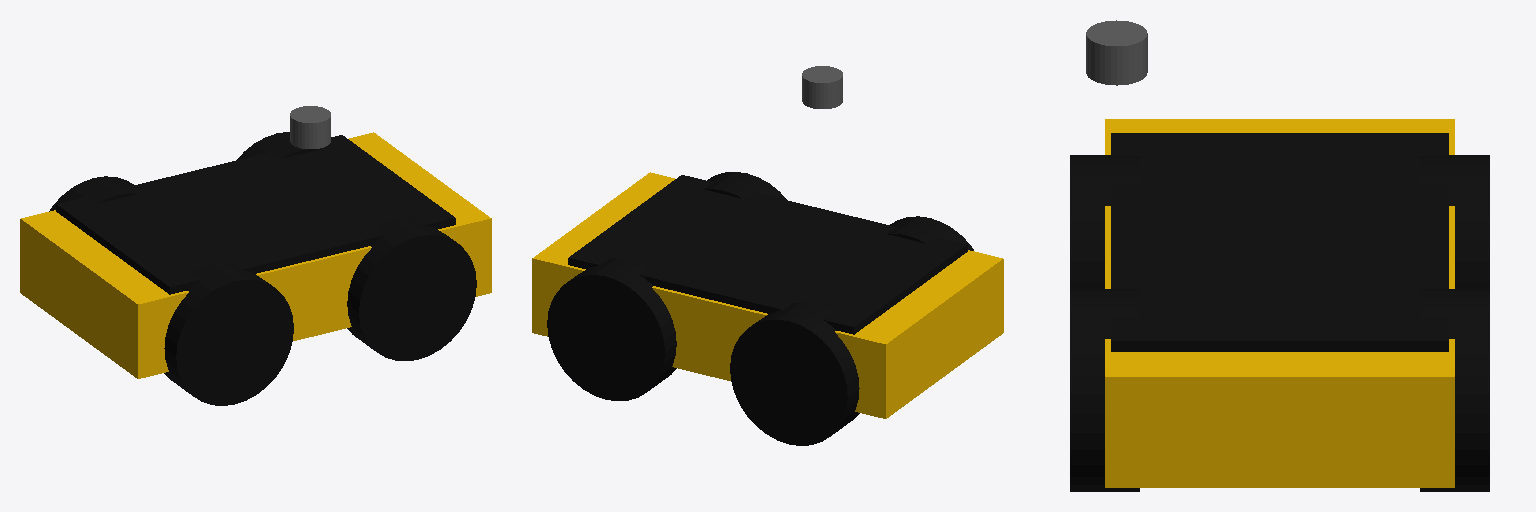
URDF robot description (husky):
<?xml version="1.0"?>
<!-- Simplified Husky A200 for display only: chassis, top plate, four wheels,
     and the LiDAR mast. Dimensions roughly match the real robot. -->
<robot name="husky">
  <material name="yellow"><color rgba="0.95 0.75 0.05 1"/></material>
  <material name="black"><color rgba="0.1 0.1 0.1 1"/></material>
  <material name="grey"><color rgba="0.4 0.4 0.4 1"/></material>

  <link name="base_link"/>

  <link name="chassis">
    <visual>
      <origin xyz="0 0 0.2"/>
      <geometry><box size="0.99 0.57 0.2"/></geometry>
      <material name="yellow"/>
    </visual>
  </link>
  <joint name="chassis_joint" type="fixed">
    <parent link="base_link"/><child link="chassis"/>
  </joint>

  <link name="top_plate">
    <visual>
      <origin xyz="0 0 0.31"/>
      <geometry><box size="0.8 0.55 0.02"/></geometry>
      <material name="black"/>
    </visual>
  </link>
  <joint name="top_plate_joint" type="fixed">
    <parent link="base_link"/><child link="top_plate"/>
  </joint>

  <link name="lidar">
    <visual>
      <origin xyz="0 0 0.05"/>
      <geometry><cylinder radius="0.05" length="0.07"/></geometry>
      <material name="grey"/>
    </visual>
  </link>
  <joint name="lidar_joint" type="fixed">
    <parent link="base_link"/><child link="lidar"/>
    <origin xyz="0.0 -0.265 0.6"/>
  </joint>

  <link name="front_left_wheel">
    <visual>
      <origin rpy="1.5708 0 0"/>
      <geometry><cylinder radius="0.165" length="0.114"/></geometry>
      <material name="black"/>
    </visual>
  </link>
  <joint name="front_left_wheel_joint" type="fixed">
    <parent link="base_link"/><child link="front_left_wheel"/>
    <origin xyz="0.256 0.285 0.165"/>
  </joint>

  <link name="front_right_wheel">
    <visual>
      <origin rpy="1.5708 0 0"/>
      <geometry><cylinder radius="0.165" length="0.114"/></geometry>
      <material name="black"/>
    </visual>
  </link>
  <joint name="front_right_wheel_joint" type="fixed">
    <parent link="base_link"/><child link="front_right_wheel"/>
    <origin xyz="0.256 -0.285 0.165"/>
  </joint>

  <link name="rear_left_wheel">
    <visual>
      <origin rpy="1.5708 0 0"/>
      <geometry><cylinder radius="0.165" length="0.114"/></geometry>
      <material name="black"/>
    </visual>
  </link>
  <joint name="rear_left_wheel_joint" type="fixed">
    <parent link="base_link"/><child link="rear_left_wheel"/>
    <origin xyz="-0.256 0.285 0.165"/>
  </joint>

  <link name="rear_right_wheel">
    <visual>
      <origin rpy="1.5708 0 0"/>
      <geometry><cylinder radius="0.165" length="0.114"/></geometry>
      <material name="black"/>
    </visual>
  </link>
  <joint name="rear_right_wheel_joint" type="fixed">
    <parent link="base_link"/><child link="rear_right_wheel"/>
    <origin xyz="-0.256 -0.285 0.165"/>
  </joint>
</robot>

--- Render facts (derived) ---
3 views of the same robot in one strip: view 1: azimuth 30°, elevation 25°; view 2: azimuth 150°, elevation 25°; view 3: azimuth 270°, elevation 25° (orthographic).
Robot: husky — 8 links, 7 joints (7 fixed); root link base_link; default pose: all joints at 0.
Links seen in each view (by area): view 1: top_plate, chassis, rear_right_wheel, front_right_wheel, lidar, rear_left_wheel, front_left_wheel; view 2: top_plate, chassis, rear_left_wheel, front_left_wheel, lidar, rear_right_wheel, front_right_wheel; view 3: top_plate, chassis, front_left_wheel, front_right_wheel, rear_left_wheel, rear_right_wheel, lidar.
Boxes of the visible links, <box> form: top_plate: <box>56,135,455,294</box>; chassis: <box>20,132,491,378</box>; rear_right_wheel: <box>164,262,293,405</box>; front_right_wheel: <box>347,218,476,360</box>; lidar: <box>290,106,330,148</box>; rear_left_wheel: <box>49,176,135,211</box>; front_left_wheel: <box>237,132,319,159</box>; top_plate: <box>568,175,967,334</box>; chassis: <box>532,172,1003,418</box>; rear_left_wheel: <box>730,302,859,445</box>; front_left_wheel: <box>547,258,676,400</box>; lidar: <box>802,66,842,108</box>; rear_right_wheel: <box>888,216,973,250</box>; front_right_wheel: <box>704,172,786,199</box>; top_plate: <box>1111,133,1448,351</box>; chassis: <box>1105,119,1454,487</box>; front_left_wheel: <box>1420,289,1489,491</box>; front_right_wheel: <box>1070,289,1139,491</box>; rear_left_wheel: <box>1420,155,1489,288</box>; rear_right_wheel: <box>1070,155,1139,288</box>; lidar: <box>1086,20,1147,85</box>.
Size in the robot's own frame: 0.99 by 0.684 by 0.685 metres.
Geometry: primitives only (box / cylinder / sphere), no mesh files.
